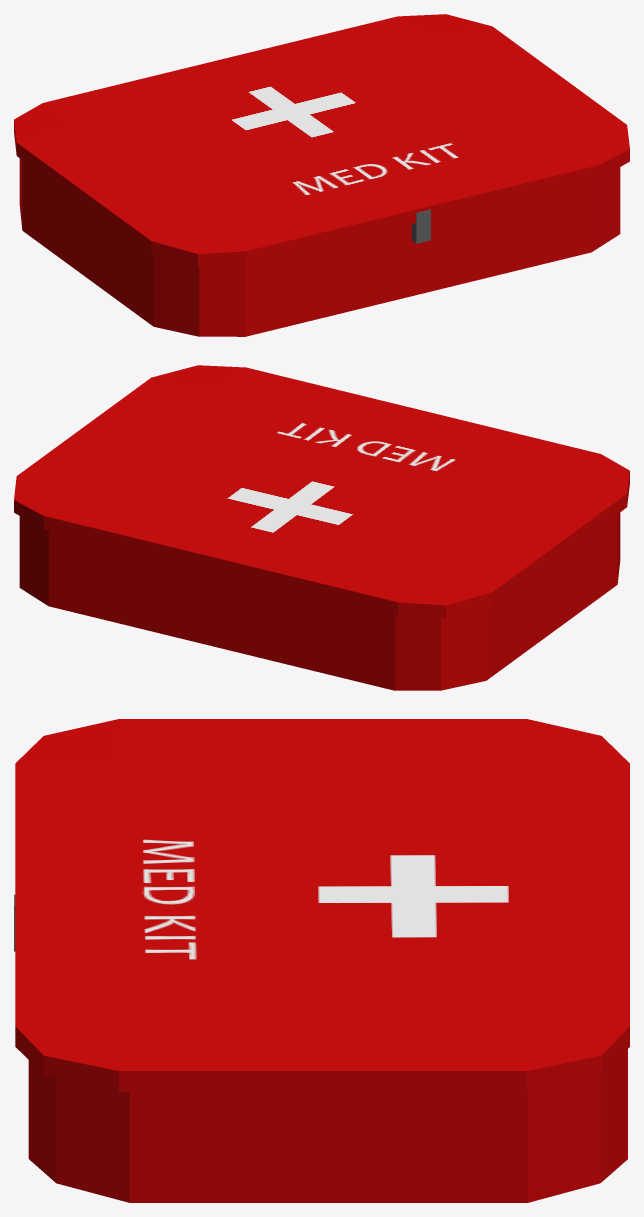
The model's file is FirstHelpMedkit.fbx.
3 views of the same model, one above another, from view 1: azimuth 30°, elevation 25°; view 2: azimuth 150°, elevation 25°; view 3: azimuth 270°, elevation 25° (orthographic). The views are drawn at different scales.
Visible parts, largest first — view 1: Куб.001; view 2: Куб.001; view 3: Куб.001.
Boxes of the visible parts, x1=… form: Куб.001: x1=14, y1=14, x2=629, y2=336; Куб.001: x1=14, y1=365, x2=629, y2=690; Куб.001: x1=14, y1=719, x2=629, y2=1202.
Size of the model in its own units: 830 by 150 by 614.
Materials: 1 (1 with a texture image).
